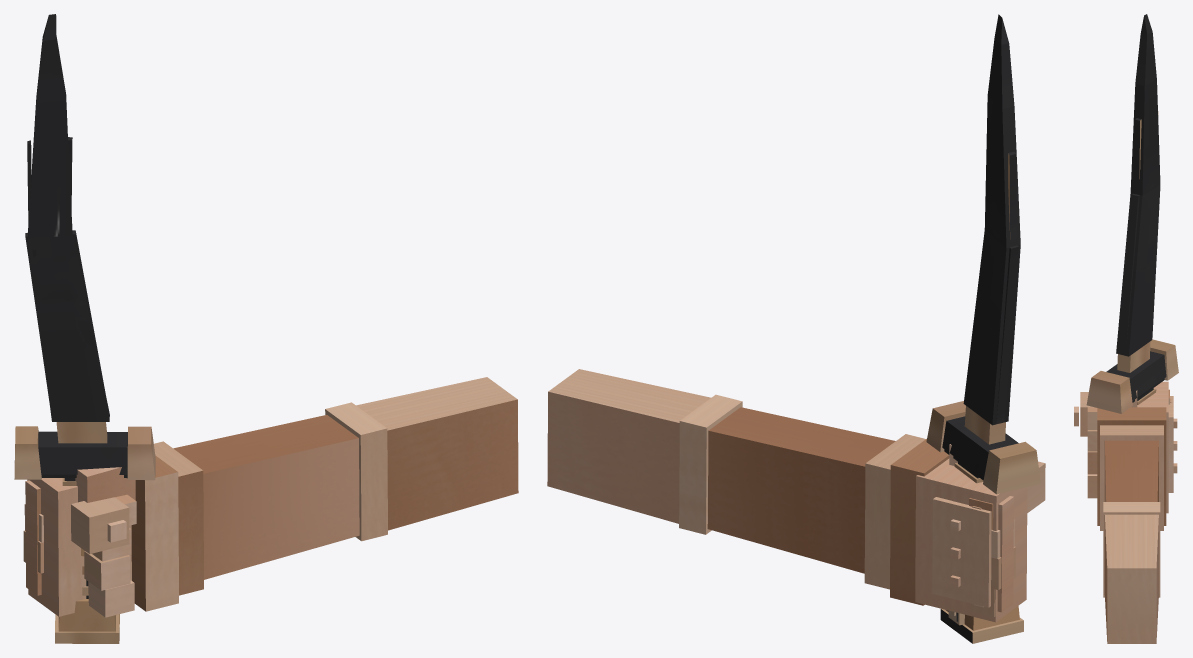
File: right_fist_dagger.glb
3 views of the same model, side by side, from view 1: azimuth 30°, elevation 25°; view 2: azimuth 150°, elevation 25°; view 3: azimuth 270°, elevation 25° (orthographic). The views are drawn at different scales.
Parts seen in each view (by area): view 1: PS1_Right_Fist.001, PS1_Dagger; view 2: PS1_Right_Fist.001, PS1_Dagger; view 3: PS1_Right_Fist.001, PS1_Dagger.
Part boxes in pixels (left/top/right/bottom): PS1_Right_Fist.001: left=23, top=377, right=518, bottom=617; PS1_Dagger: left=14, top=14, right=155, bottom=643; PS1_Right_Fist.001: left=547, top=369, right=1045, bottom=622; PS1_Dagger: left=926, top=14, right=1040, bottom=643; PS1_Right_Fist.001: left=1074, top=381, right=1177, bottom=643; PS1_Dagger: left=1086, top=14, right=1178, bottom=413.
Bounding box in the file's own units: 0.362 × 0.4441 × 0.0852.
Materials: 2 (2 with a texture image).
